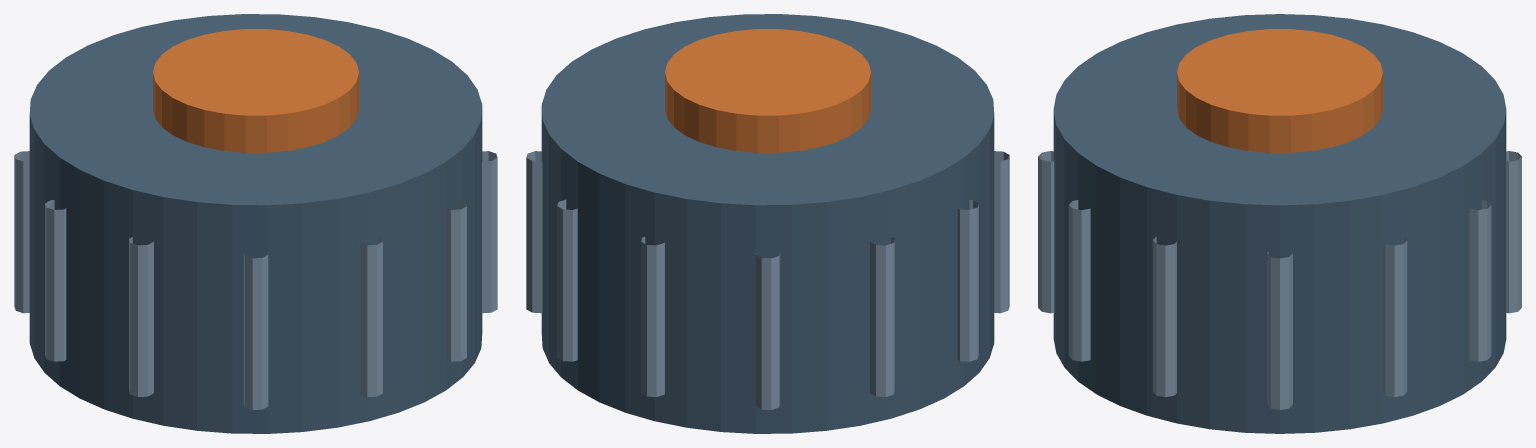
The model's file is 38_L92_DrillingMotorAndGearbox.fbx.
3 views of the same model, side by side, from view 1: azimuth 30°, elevation 25°; view 2: azimuth 150°, elevation 25°; view 3: azimuth 270°, elevation 25° (orthographic).
Parts seen in each view (by area): view 1: L92_DrillingMotorAndGearbox_Part_0000, L92_DrillingMotorAndGearbox_Part_0001, L92_DrillingMotorAndGearbox_Part_0002; view 2: L92_DrillingMotorAndGearbox_Part_0000, L92_DrillingMotorAndGearbox_Part_0001, L92_DrillingMotorAndGearbox_Part_0002; view 3: L92_DrillingMotorAndGearbox_Part_0000, L92_DrillingMotorAndGearbox_Part_0001, L92_DrillingMotorAndGearbox_Part_0002.
Part boxes in pixels (x1,y1,x2,y2): L92_DrillingMotorAndGearbox_Part_0000: (29,14,482,433); L92_DrillingMotorAndGearbox_Part_0001: (14,151,497,409); L92_DrillingMotorAndGearbox_Part_0002: (153,29,358,152); L92_DrillingMotorAndGearbox_Part_0000: (541,14,994,433); L92_DrillingMotorAndGearbox_Part_0001: (526,151,1009,409); L92_DrillingMotorAndGearbox_Part_0002: (665,29,870,152); L92_DrillingMotorAndGearbox_Part_0000: (1053,14,1506,433); L92_DrillingMotorAndGearbox_Part_0001: (1038,151,1521,409); L92_DrillingMotorAndGearbox_Part_0002: (1177,29,1382,152).
Size of the model in its own units: 188 by 114 by 188.
